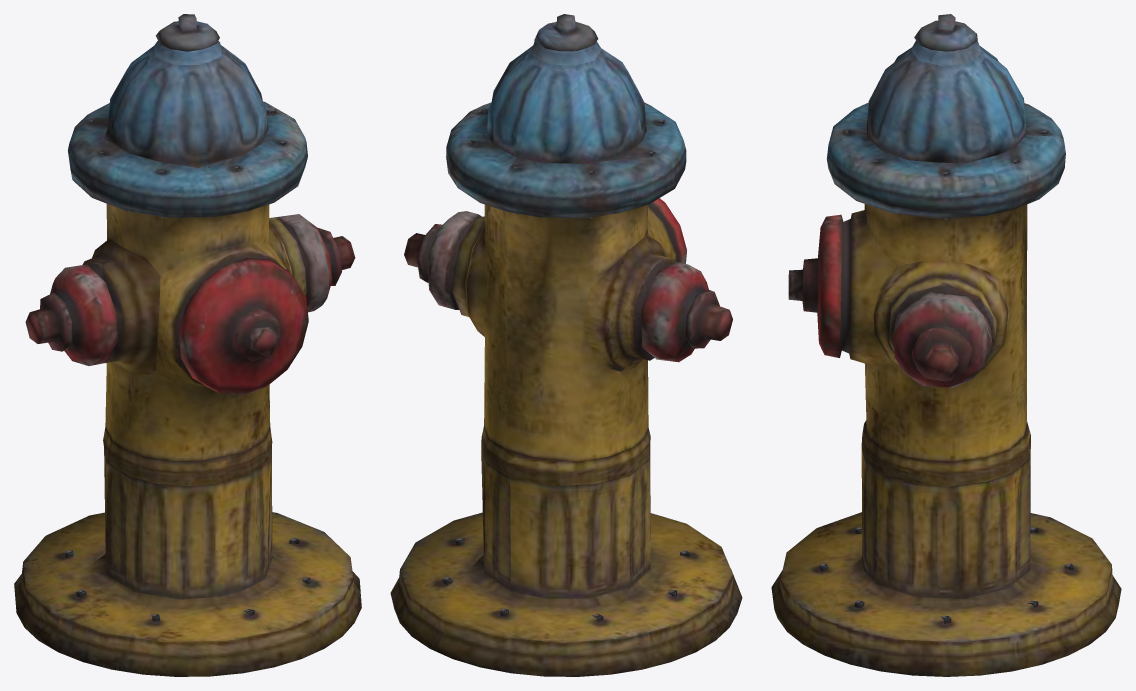
The model's file is hydrant_a.glb.
The picture shows the model from 3 angles, left to right: view 1: azimuth 30°, elevation 25°; view 2: azimuth 150°, elevation 25°; view 3: azimuth 270°, elevation 25°; orthographic projection.
Parts seen in each view (by area): view 1: body_lp_w; view 2: body_lp_w; view 3: body_lp_w.
Boxes of the visible parts, left/top/right/bottom form: body_lp_w: left=14, top=14, right=361, bottom=676; body_lp_w: left=390, top=14, right=742, bottom=676; body_lp_w: left=771, top=14, right=1121, bottom=676.
Size of the model in its own units: 0.4309 by 0.78 by 0.4158.
1 material, 1 textured.
